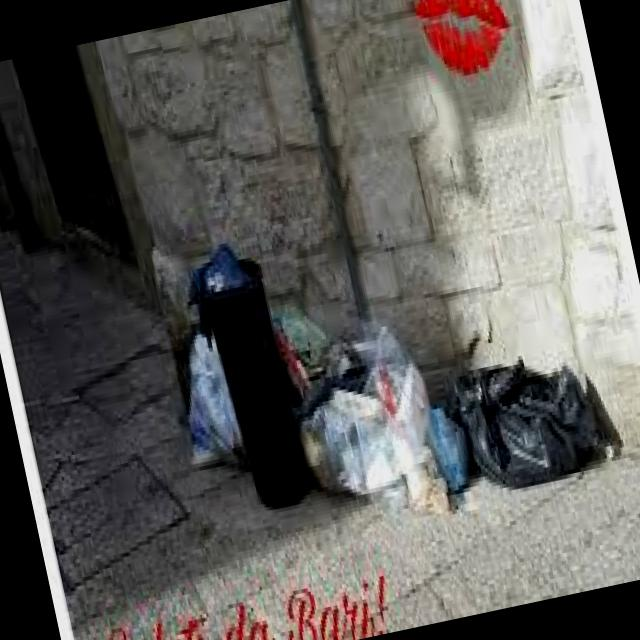garbage: (146, 161, 614, 561)
